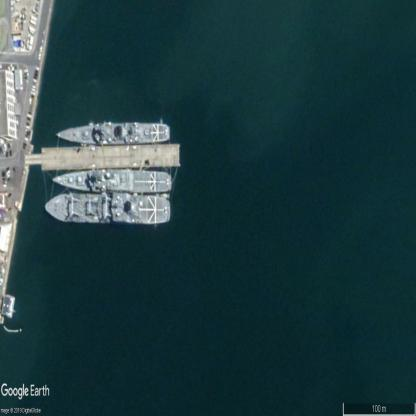ship: (45, 192, 171, 225), (51, 170, 172, 191), (56, 123, 170, 145)
